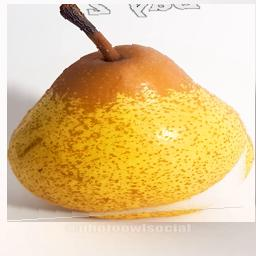Pear Semirotten: (7, 5, 255, 223)
